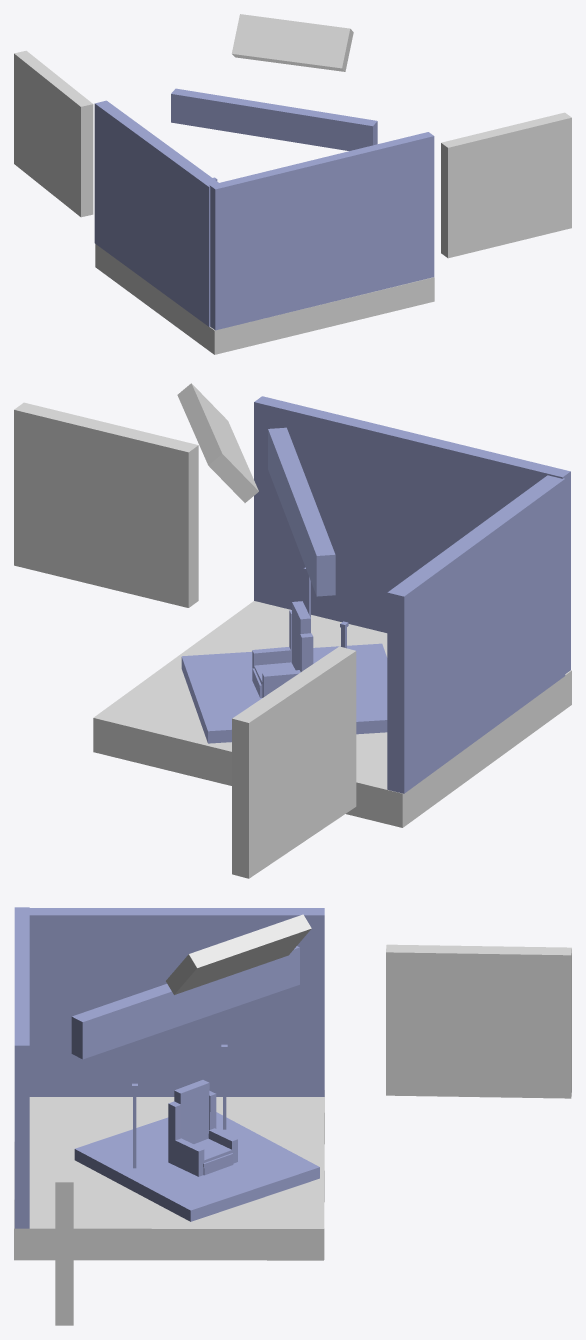
File: rulerThronev2.glb
3 views of the same model, one above another, from view 1: azimuth 30°, elevation 25°; view 2: azimuth 150°, elevation 25°; view 3: azimuth 270°, elevation 25° (orthographic). The views are drawn at different scales.
Parts seen in each view (by area): view 1: Cube.001, Cube.002, leaderboard, more_info, Cube, Cube.022, discord; view 2: Cube.002, Cube.001, leaderboard, Cube, more_info, Cube.003, Cube.022, discord, Cube.006, Cube.007; view 3: Cube.002, Cube, more_info, Cube.003, Cube.022, Cube.001, discord, leaderboard, Cube.006, Cube.007, Cube.009, Cube.004.
Part boxes in pixels (x1,y1,x2,y2): Cube.001: [209, 132, 434, 330]; Cube.002: [94, 100, 218, 326]; leaderboard: [441, 112, 571, 258]; more_info: [14, 50, 93, 217]; Cube: [95, 244, 434, 354]; Cube.022: [171, 88, 377, 150]; discord: [231, 14, 353, 71]; Cube.002: [387, 475, 565, 793]; Cube.001: [254, 396, 570, 673]; leaderboard: [14, 402, 198, 607]; Cube: [93, 601, 571, 827]; more_info: [232, 646, 356, 878]; Cube.003: [181, 643, 387, 743]; Cube.022: [268, 427, 335, 596]; discord: [177, 383, 258, 502]; Cube.006: [292, 601, 310, 671]; Cube.007: [252, 647, 290, 668]; Cube.002: [29, 908, 324, 1096]; Cube: [14, 1090, 324, 1260]; more_info: [386, 944, 571, 1098]; Cube.003: [74, 1112, 319, 1221]; Cube.022: [71, 946, 299, 1059]; Cube.001: [14, 907, 29, 1228]; discord: [166, 914, 311, 994]; leaderboard: [55, 1104, 73, 1325]; Cube.006: [174, 1080, 209, 1143]; Cube.007: [175, 1138, 204, 1176]; Cube.009: [194, 1138, 233, 1175]; Cube.004: [168, 1101, 181, 1165].
Size of the model in its own units: 3.79 by 2.21 by 3.78.
